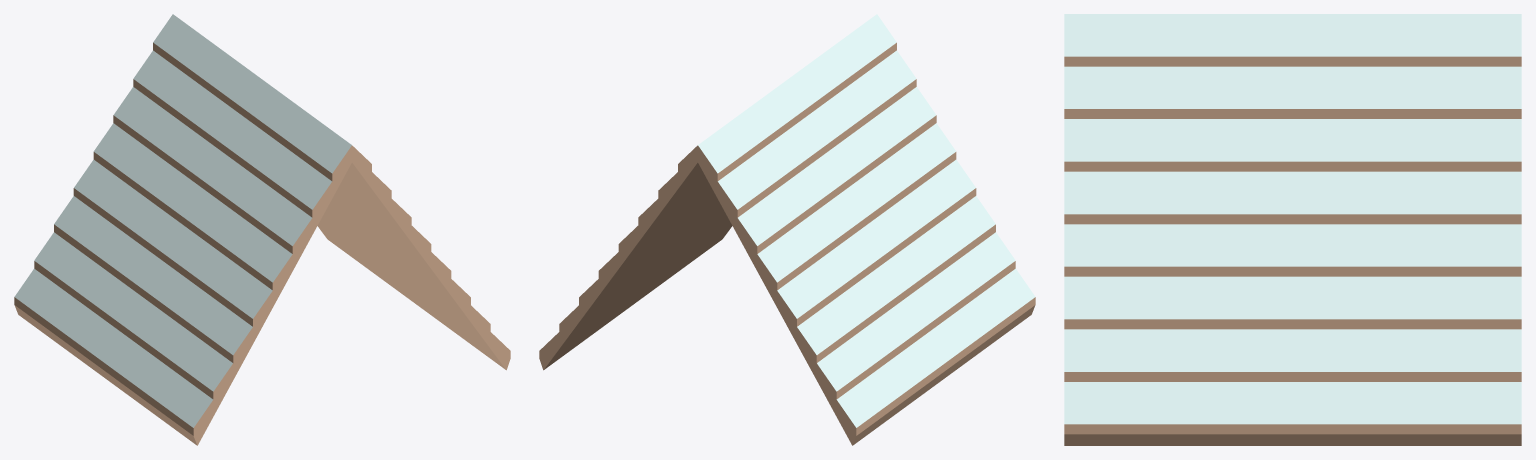
Rendered from cabinRoofCenter.glb.
3 views of the same model, side by side, from view 1: azimuth 30°, elevation 25°; view 2: azimuth 150°, elevation 25°; view 3: azimuth 270°, elevation 25° (orthographic). The views are drawn at different scales.
Visible parts, largest first — view 1: cabinRoofCenter(Clone); view 2: cabinRoofCenter(Clone); view 3: cabinRoofCenter(Clone).
Part boxes in pixels (x1=…): cabinRoofCenter(Clone): x1=14, y1=14, x2=510, y2=445; cabinRoofCenter(Clone): x1=539, y1=14, x2=1035, y2=445; cabinRoofCenter(Clone): x1=1064, y1=14, x2=1521, y2=445.
Size of the model in its own units: 1.21 by 0.9559 by 1.18.
